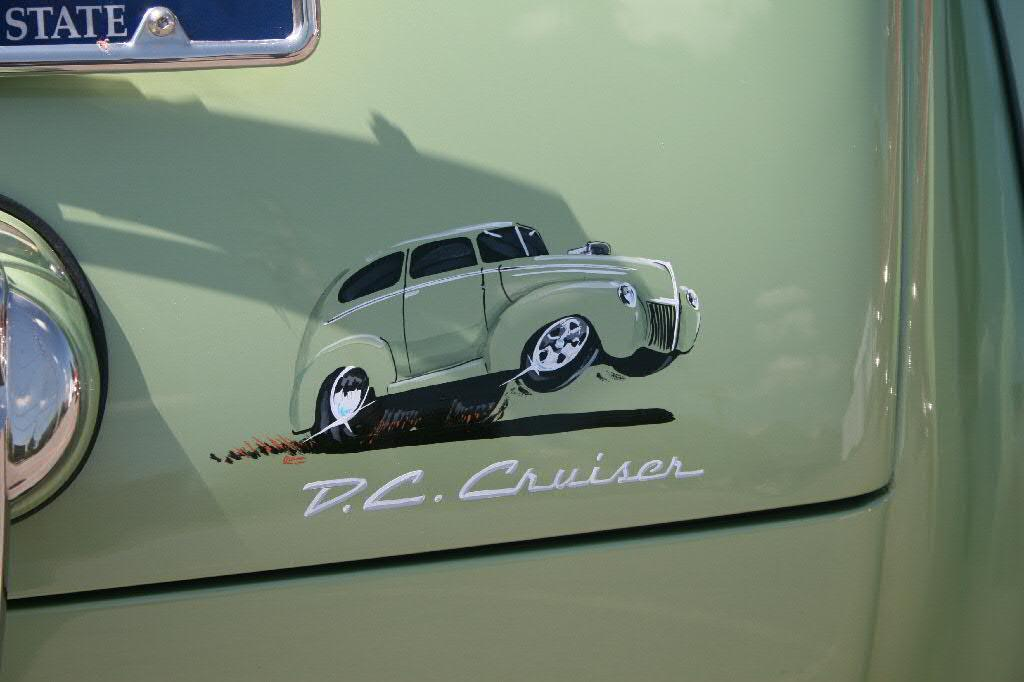Car: (0, 0, 1022, 681), (275, 206, 691, 445)
